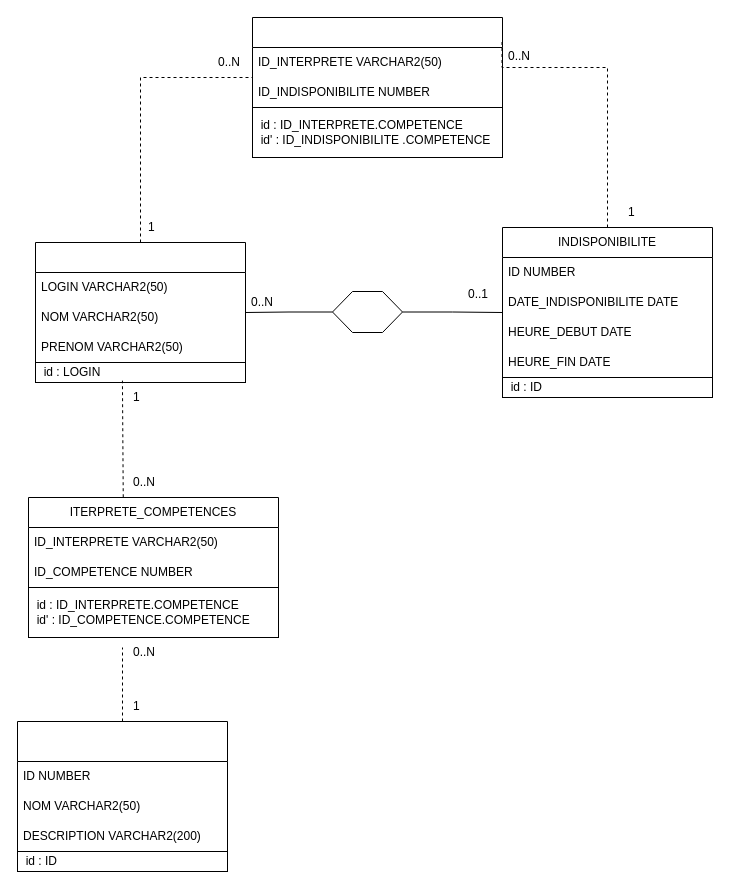
Image size: 730x889. Some labels were removed from this diagram. The shapes that lost their labels are listed below. From the top down, each one's box as (x1, y1, x2, y2) in pixels, then its label:
(252, 16, 502, 158): ITERPRETE_INDISPONIBILITE
(34, 242, 246, 382): INTERPRETE
(332, 290, 402, 332): a>
(16, 720, 228, 872): COMPETENCES
